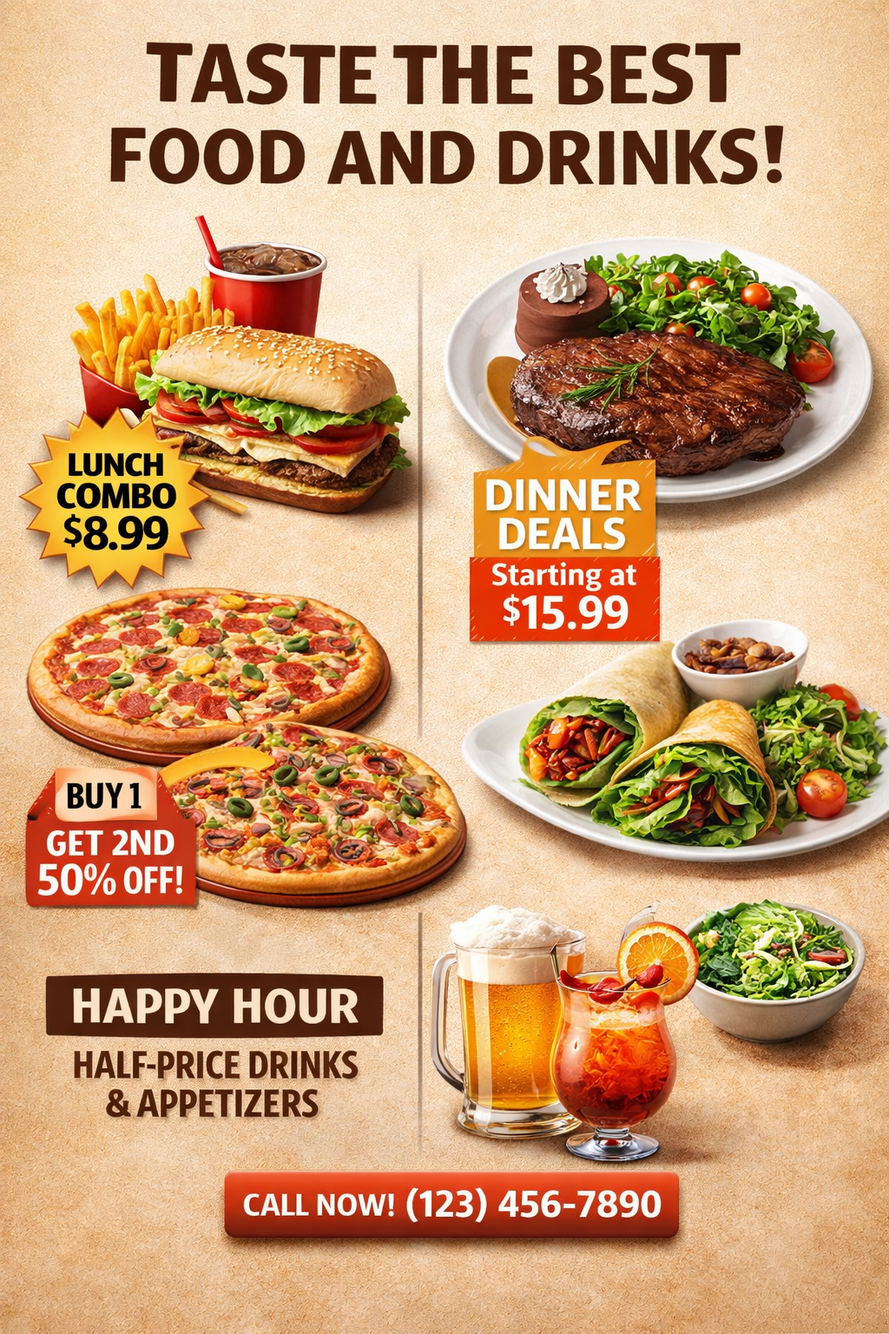CTA: (232, 1182, 406, 1229)
Headline: (108, 40, 787, 192)
Price: (466, 455, 666, 653), (20, 415, 216, 574), (6, 774, 219, 908)
Product: (41, 215, 889, 1146)
